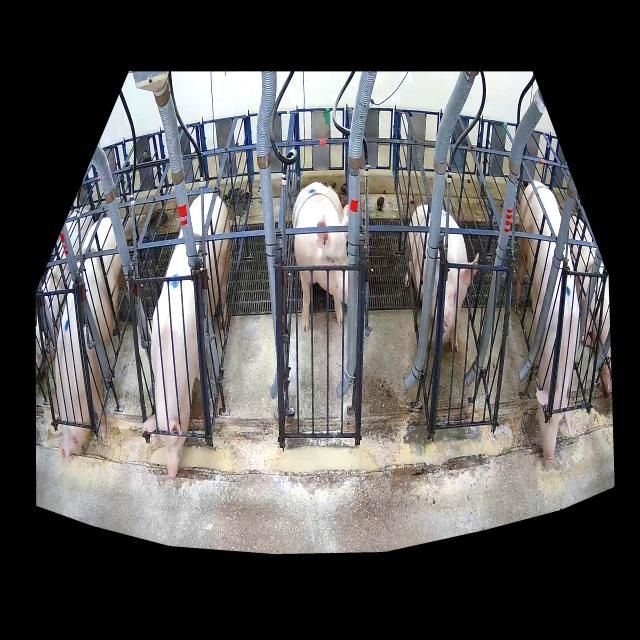pig: (142, 193, 231, 478), (52, 217, 130, 459), (515, 182, 580, 459), (405, 205, 479, 353), (293, 183, 348, 331)
